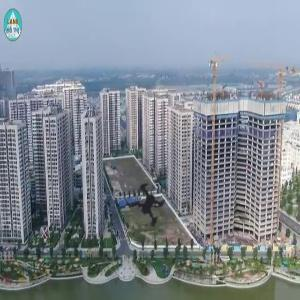drone: (82, 144, 209, 271)
